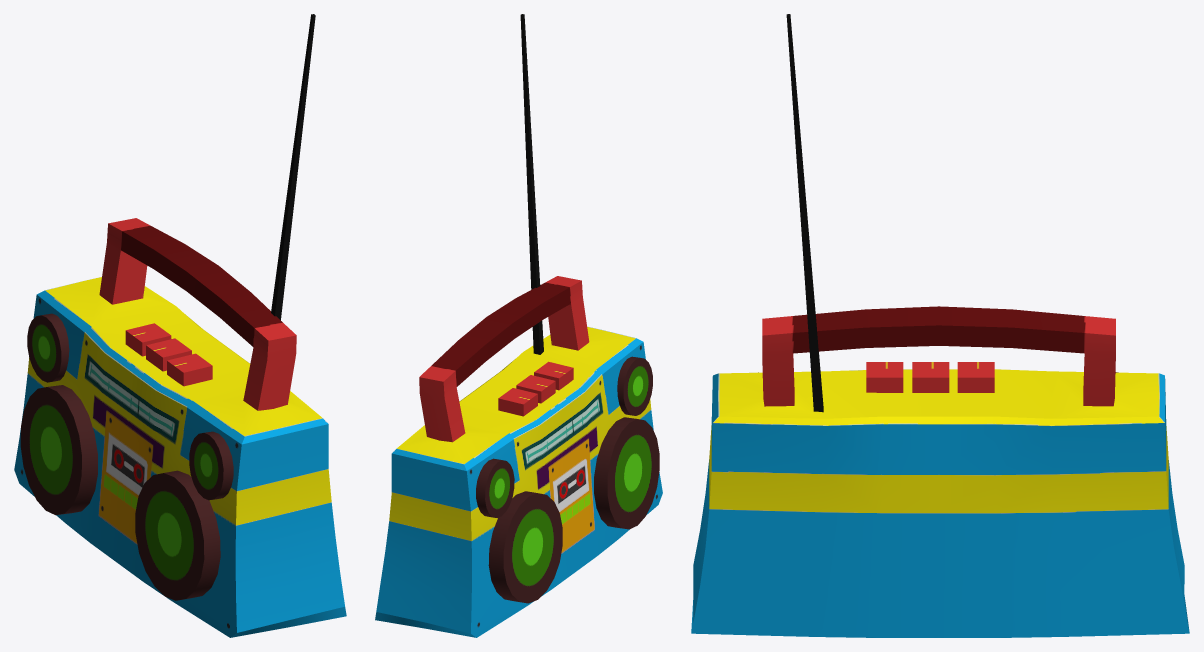
File: Radio.glb
The picture shows the model from 3 angles, left to right: view 1: azimuth 30°, elevation 25°; view 2: azimuth 150°, elevation 25°; view 3: azimuth 270°, elevation 25°; orthographic projection. The views are drawn at different scales.
Visible parts, largest first — view 1: Radio; view 2: Radio; view 3: Radio.
Part boxes in pixels (x1,y1,x2,y2): Radio: (14, 14, 346, 637); Radio: (375, 14, 662, 637); Radio: (691, 14, 1189, 637).
Size of the model in its own units: 0.6281 by 2.35 by 1.7.
1 material, 1 textured.
